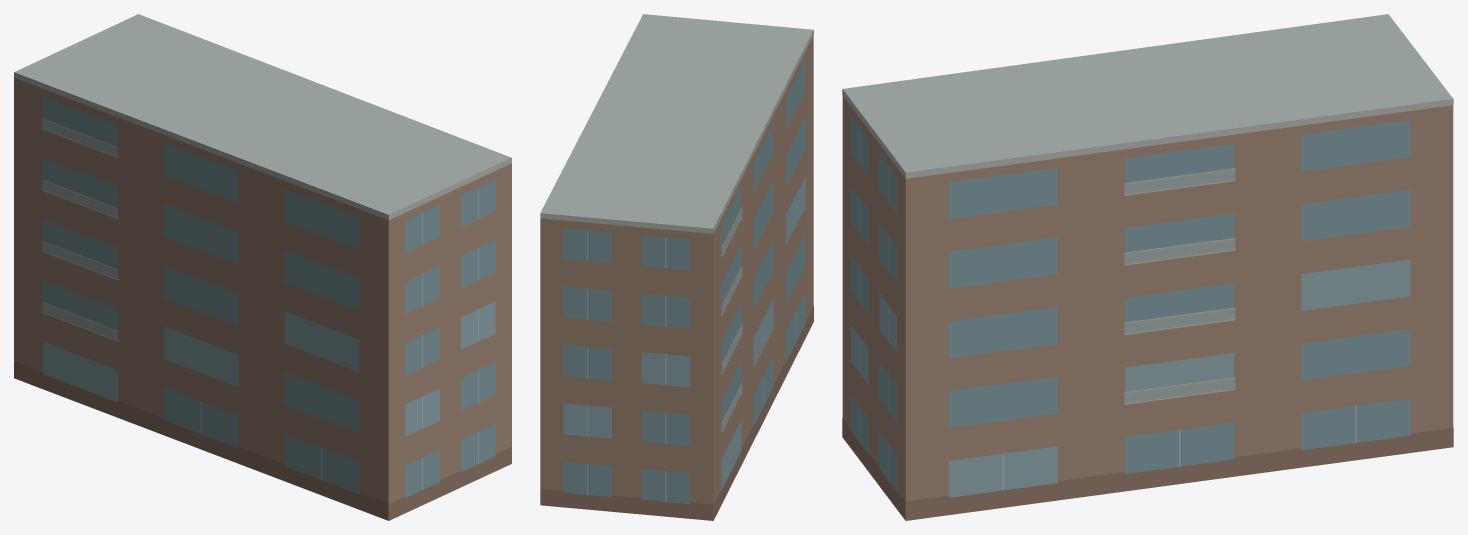
File: survey-upis-32620553.glb
The picture shows the model from 3 angles, left to right: view 1: azimuth 30°, elevation 25°; view 2: azimuth 150°, elevation 25°; view 3: azimuth 270°, elevation 25°; orthographic projection. The views are drawn at different scales.
Visible parts, largest first — view 1: survey-upis-32620553.tmp; view 2: survey-upis-32620553.tmp; view 3: survey-upis-32620553.tmp.
Part boxes in pixels (x1,y1,x2,y2): survey-upis-32620553.tmp: (14, 14, 511, 520); survey-upis-32620553.tmp: (540, 14, 813, 520); survey-upis-32620553.tmp: (842, 14, 1453, 520).
Bounding box in the file's own units: 13.4 × 13.7 × 21.79.
